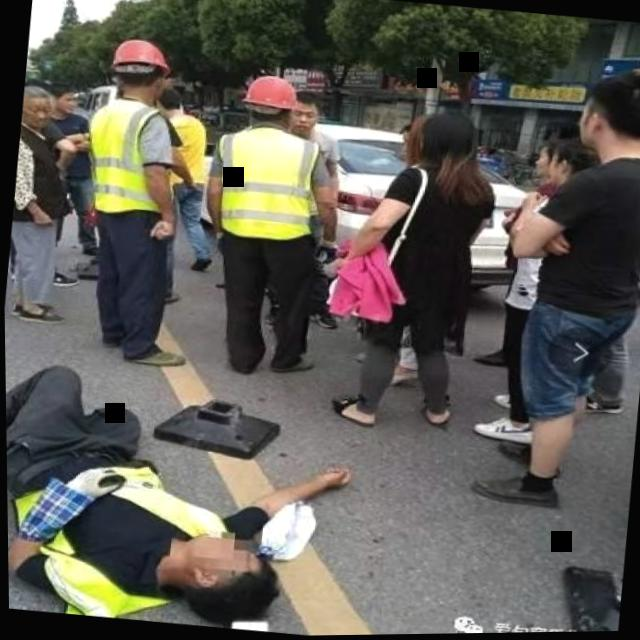Fall-Detected: (4, 347, 352, 635)
